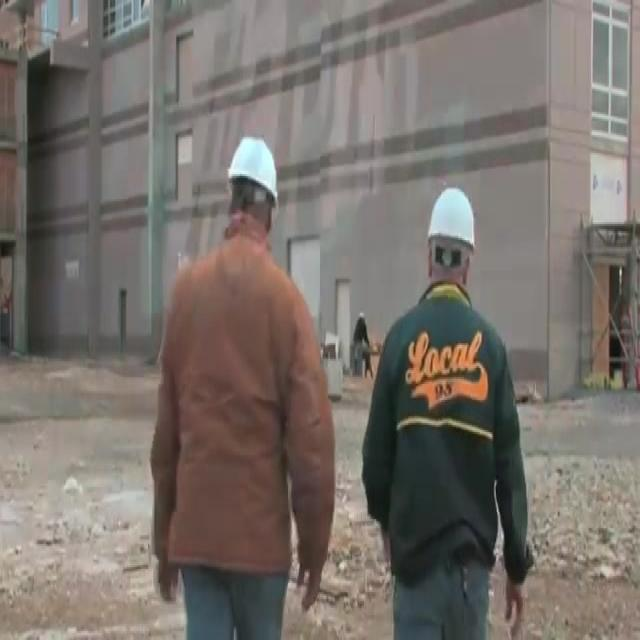Safety-Helmet: (219, 124, 288, 217), (418, 174, 486, 267)
